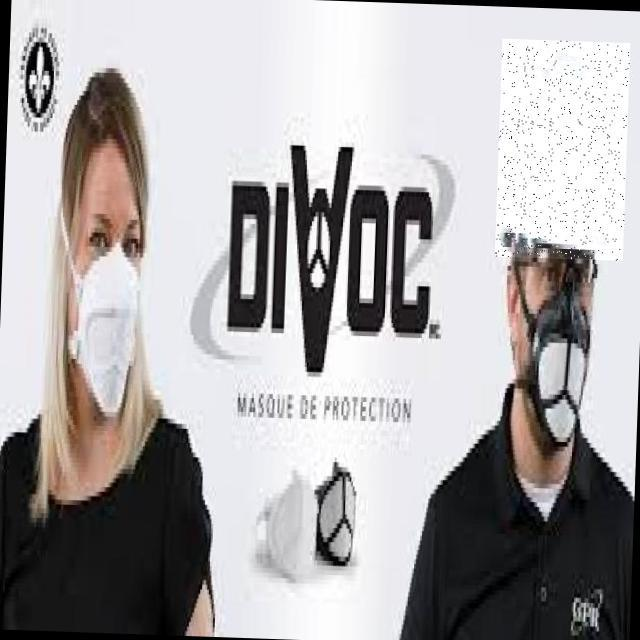Helmet: (494, 39, 630, 261)
Person: (377, 19, 640, 640), (2, 60, 226, 640)
no-helmet: (58, 65, 151, 159)
no-vest: (394, 387, 640, 640), (1, 398, 215, 640)
